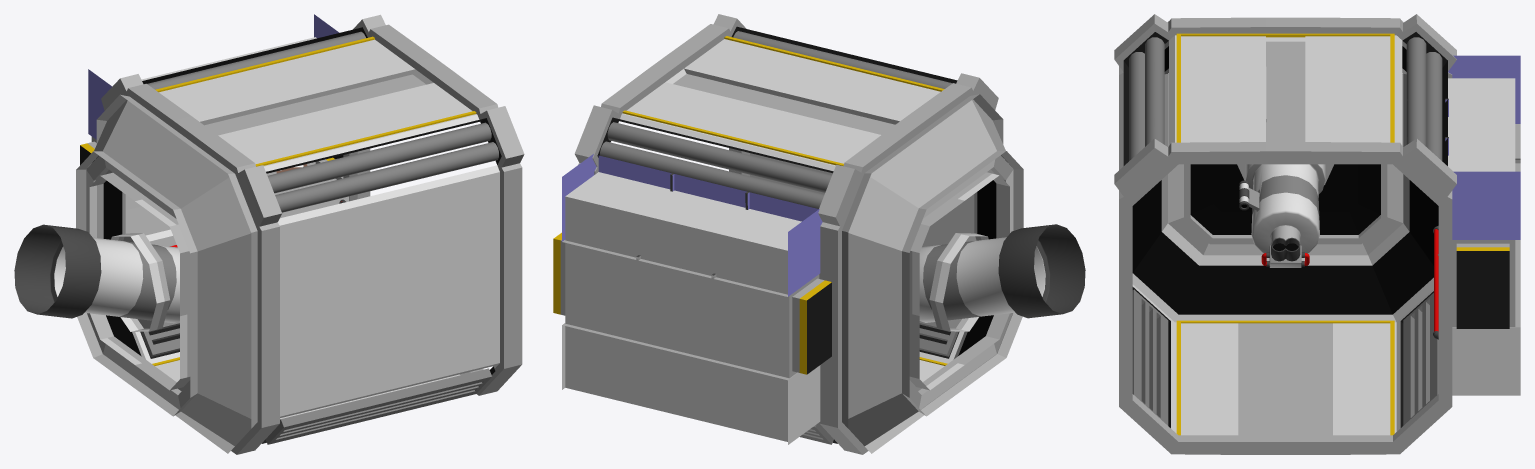
The model's file is Observ_Module.fbx.
3 renders of one model, left to right at view 1: azimuth 30°, elevation 25°; view 2: azimuth 150°, elevation 25°; view 3: azimuth 270°, elevation 25°, orthographic. The views are drawn at different scales.
Parts seen in each view (by area): view 1: Corridor_Téléscope, Téléscope, Corridor_Research_Ending.004, Corridor_Téléscope_Lights; view 2: Corridor_Téléscope, Téléscope, Corridor_Research_Ending.004, Corridor_Téléscope_Lights; view 3: Corridor_Téléscope, Corridor_Research_Ending.004, Téléscope, Corridor_Téléscope_Lights.
Part boxes in pixels (x1,y1,x2,y2): Corridor_Téléscope: [76, 14, 524, 454]; Téléscope: [14, 224, 179, 323]; Corridor_Research_Ending.004: [88, 14, 348, 247]; Corridor_Téléscope_Lights: [80, 36, 476, 365]; Corridor_Téléscope: [560, 14, 1023, 454]; Téléscope: [919, 224, 1085, 322]; Corridor_Research_Ending.004: [562, 154, 822, 444]; Corridor_Téléscope_Lights: [553, 36, 947, 374]; Corridor_Téléscope: [1114, 14, 1515, 454]; Corridor_Research_Ending.004: [1433, 55, 1520, 395]; Téléscope: [1239, 164, 1325, 267]; Corridor_Téléscope_Lights: [1176, 33, 1509, 435].
Bounding box in the file's own units: 638 × 428 × 513.
